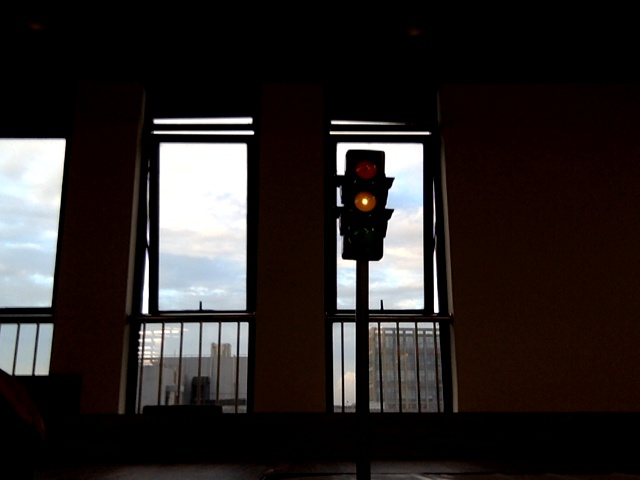yellow: (345, 155, 382, 253)
